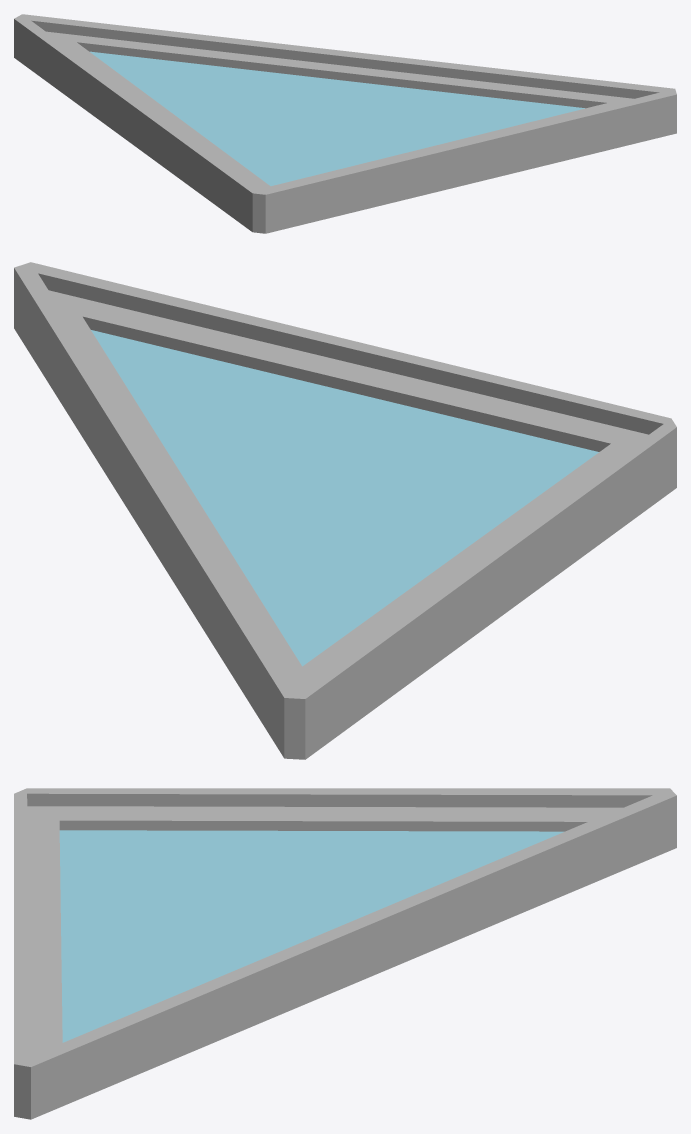
The model's file is MSH_TriangularPanel.fbx.
The picture shows the model from 3 angles, top to bottom: view 1: azimuth 30°, elevation 25°; view 2: azimuth 150°, elevation 25°; view 3: azimuth 270°, elevation 25°; orthographic projection. The views are drawn at different scales.
Visible parts, largest first — view 1: polySurface66; view 2: polySurface66; view 3: polySurface66.
Boxes of the visible parts, x1=… form: polySurface66: x1=14, y1=14, x2=676, y2=233; polySurface66: x1=14, y1=262, x2=676, y2=759; polySurface66: x1=14, y1=788, x2=676, y2=1119.
Size of the model in its own units: 8.75 by 0.7686 by 8.79.
